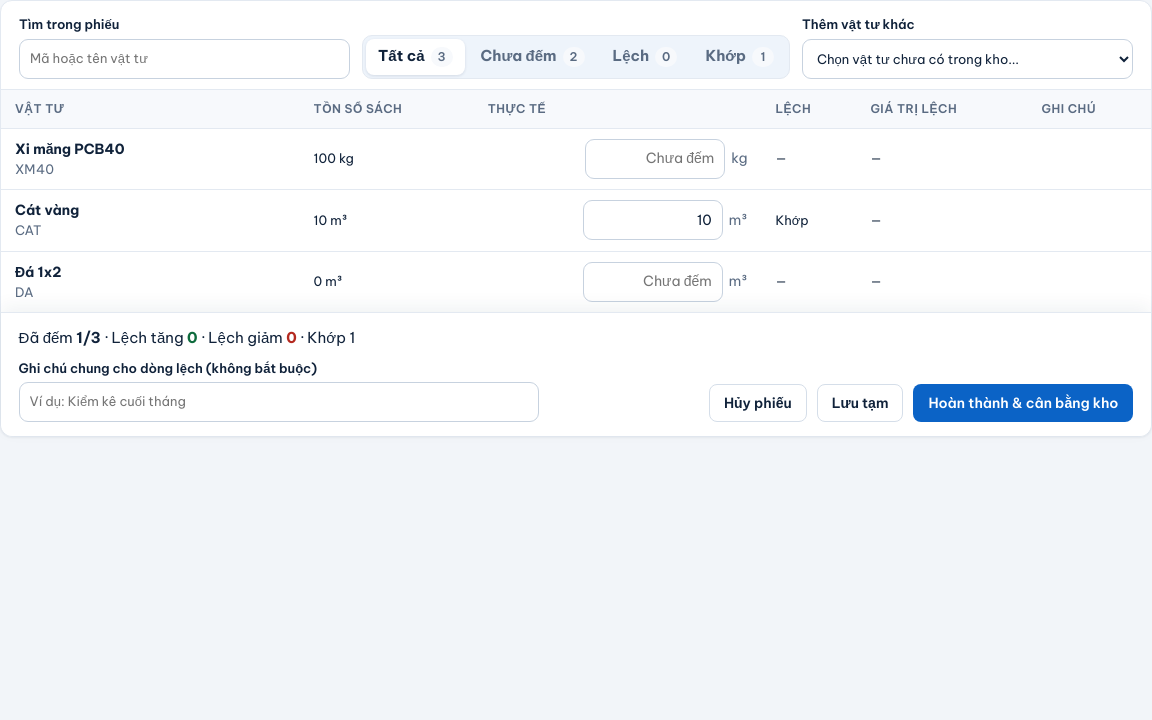
Test: shows the variance as counts are typed and saves only new or changed lines
Type "98,5" into the field named "Thực tế Xi măng PCB40". click: (655, 159)
box: 585,139 -> 725,179
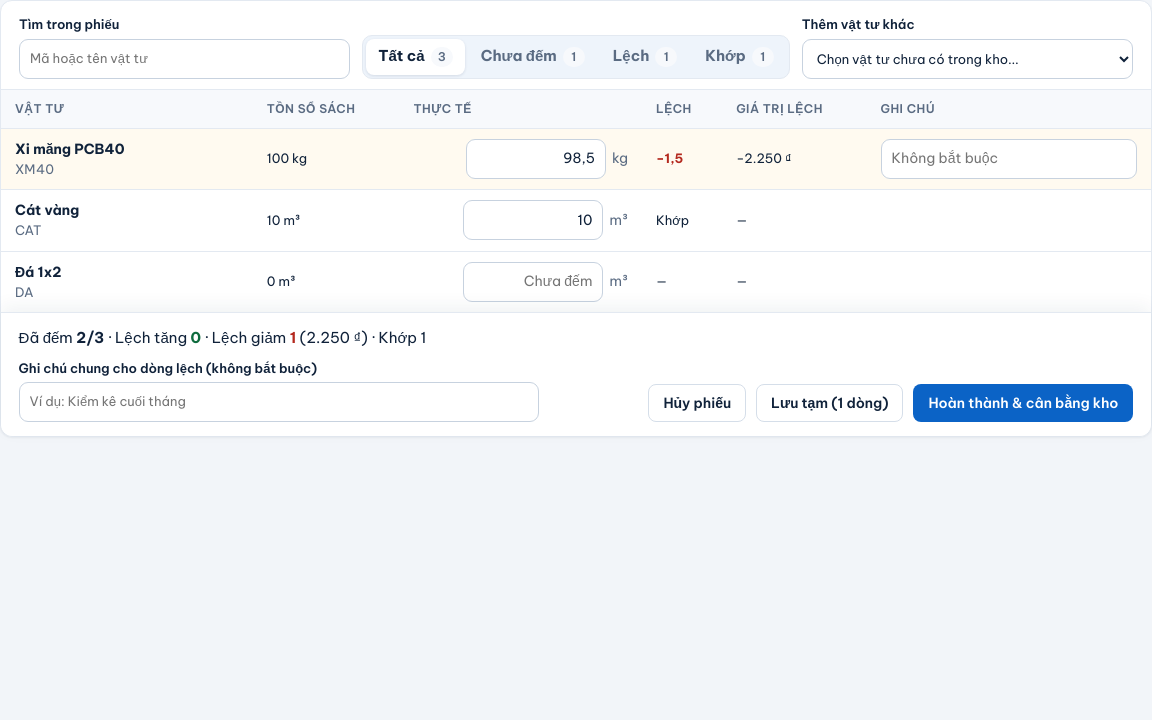
Expected: the text "−1,5" is shown, 642,128 -> 722,190
Expected: the text "−2.250 ₫" is shown, 722,128 -> 866,190
Expected: the text "Đã đếm 2/3 · Lệch tăng 0 · Lệch giảm 1 (2.250 ₫) · Khớp 1" is shown, 19,328 -> 426,347
Type "Kiểm cuối tháng" into the field labelled "Ghi chú chung cho dòng lệch (không bắt buộc)". click: (279, 402)
box: 19,382 -> 539,422
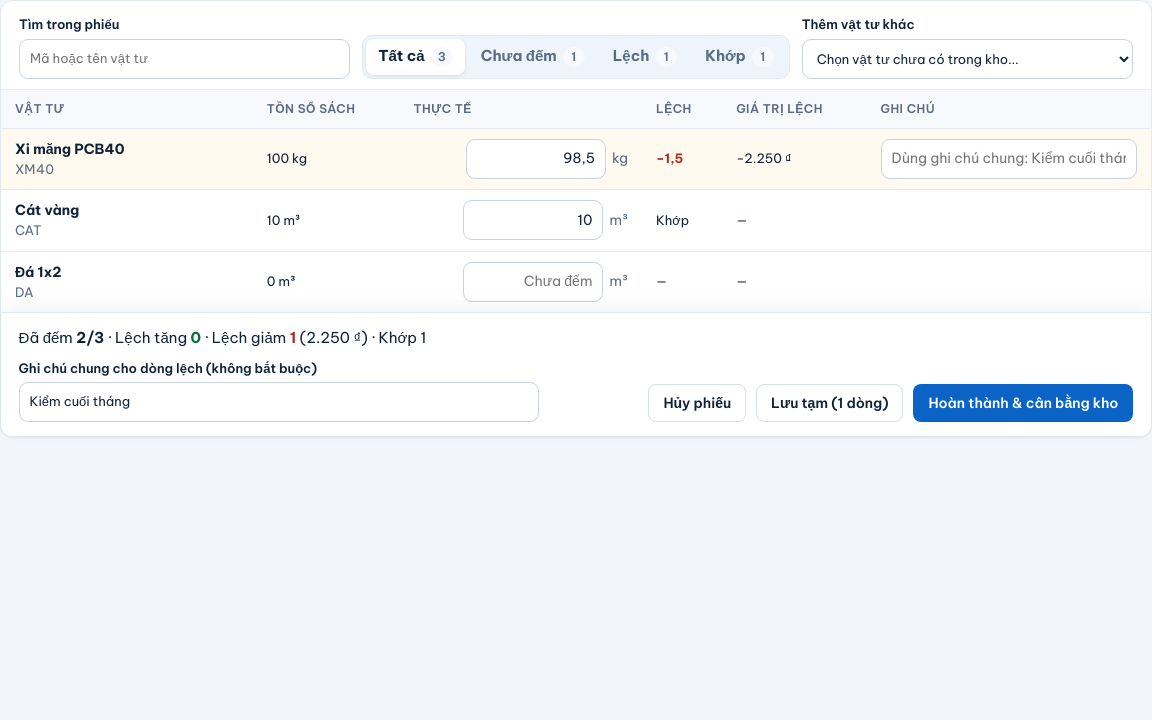
Click the button "Lưu tạm (1 dòng)". click: (830, 403)
box: 756,384 -> 903,422
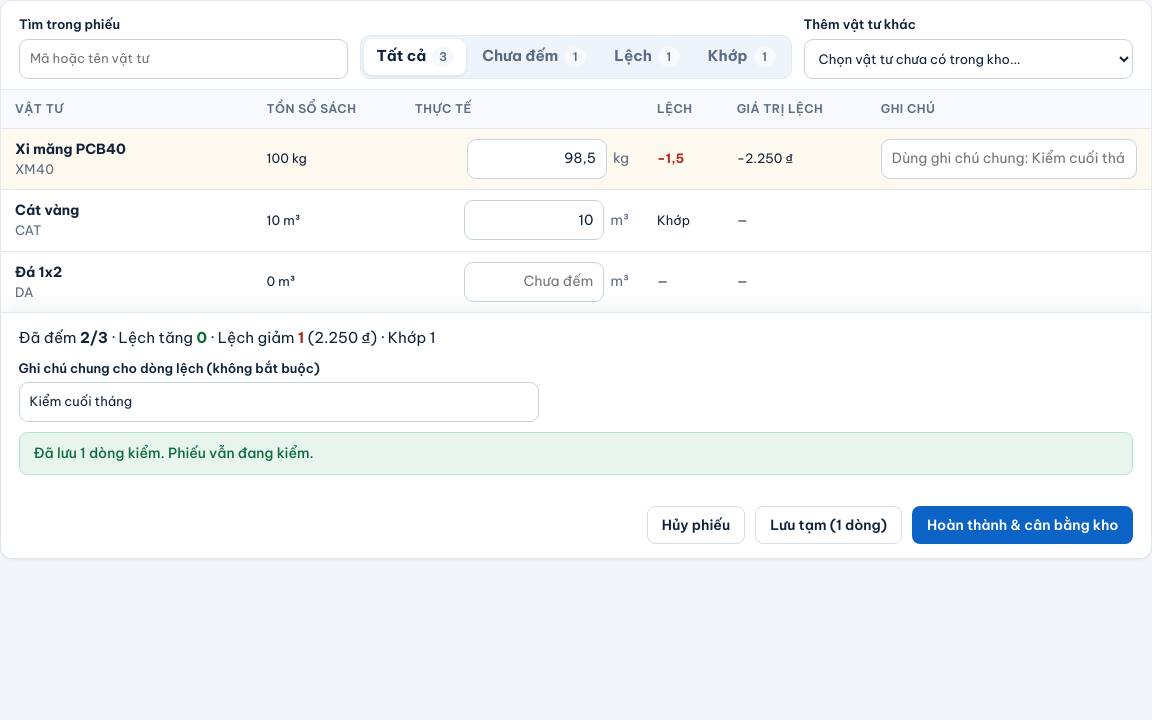
Expected: the message shows "Đã lưu 1 dòng kiểm.", 34,444 -> 314,462
